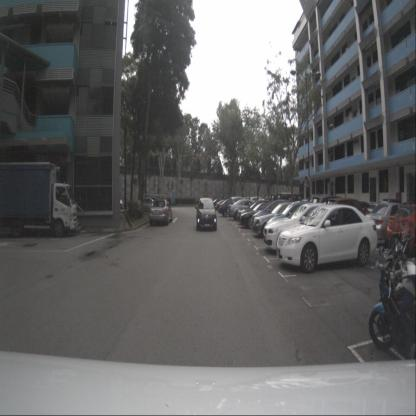vehicle-car: (276, 204, 378, 274), (263, 203, 345, 256), (264, 201, 326, 241), (364, 203, 416, 245), (252, 202, 314, 237), (326, 197, 372, 233), (251, 200, 299, 234), (386, 204, 416, 254), (236, 200, 280, 226), (311, 196, 347, 227), (240, 202, 282, 228), (227, 199, 264, 221), (196, 197, 217, 231), (149, 199, 172, 227), (218, 199, 242, 217), (138, 197, 163, 214), (215, 199, 238, 216), (229, 196, 246, 209), (249, 196, 265, 209), (211, 198, 226, 210), (117, 200, 123, 209)
vehicle-motorcycle: (368, 240, 416, 351), (374, 230, 416, 333)
vehicle-truck: (0, 162, 78, 238)
